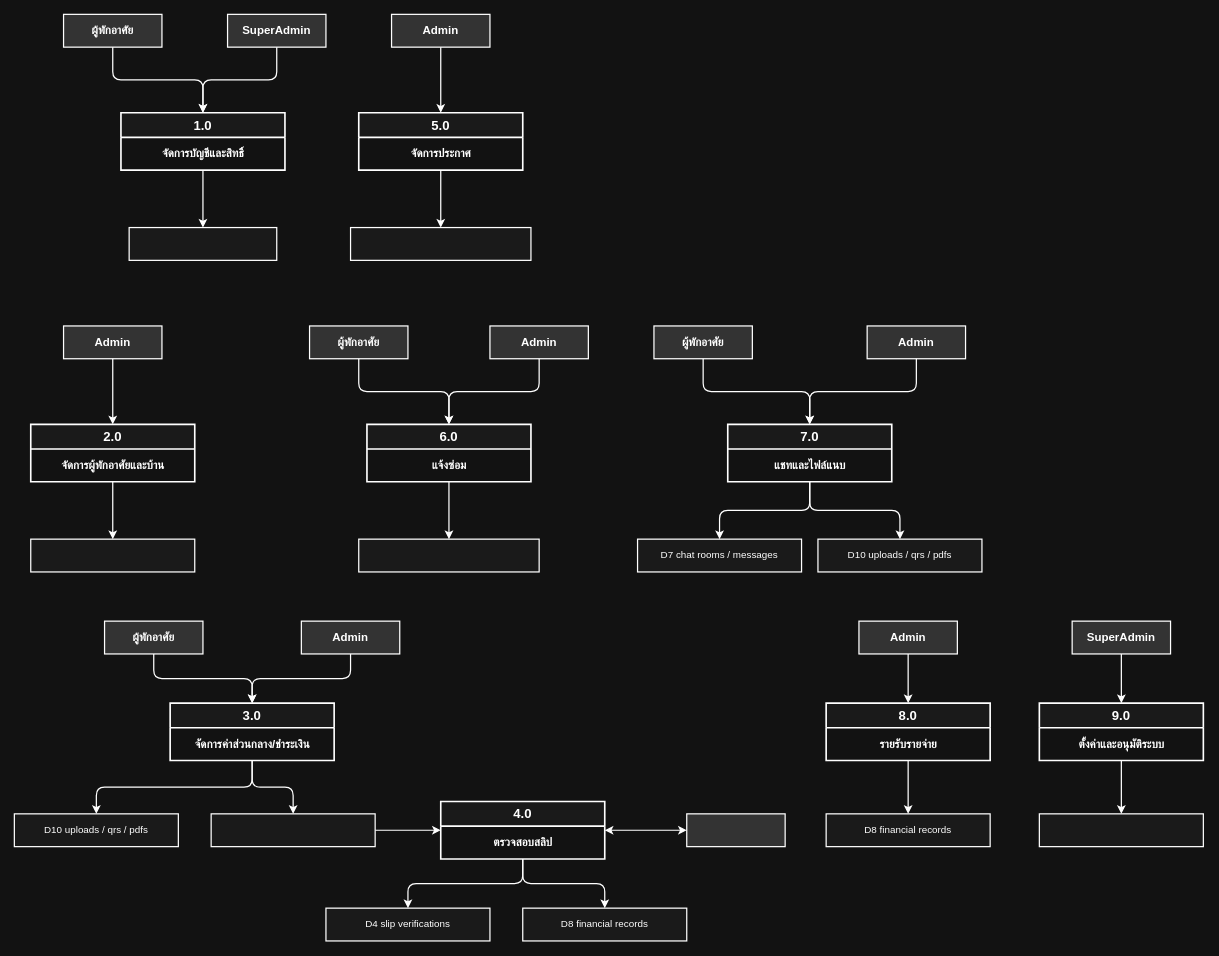
Some shapes in this 1219 by 956 pixel diagram are drawn without their labels. Each missing label, with the centre of its shape:
D1 accounts: (x=202, y=244)
D2 residents / houses: (x=112, y=555)
D3 payments / intents: (x=292, y=830)
D5 announcements / logs: (x=440, y=244)
D6 repairs / photos / logs: (x=448, y=555)
D9 system settings: (x=1121, y=830)
Slip2Go API: (x=735, y=830)
